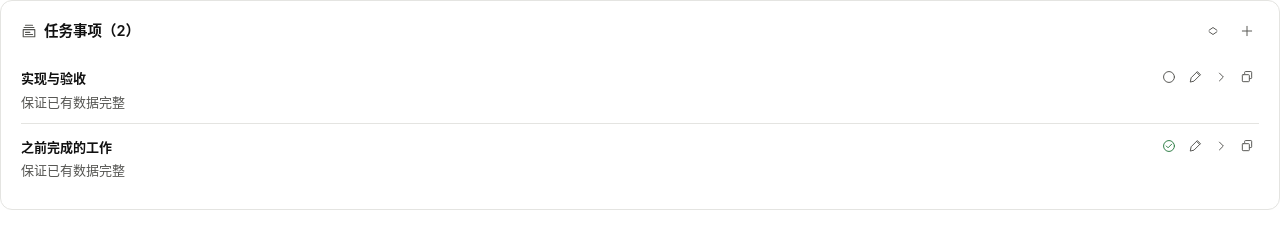
Test: shows all items, sorts completed work last, and exposes completion through the icon toggle
This screenshot has width=1280, height=227.
Click the button named "标记完成：实现与验收": (1169,77) [1157,65,1181,89]
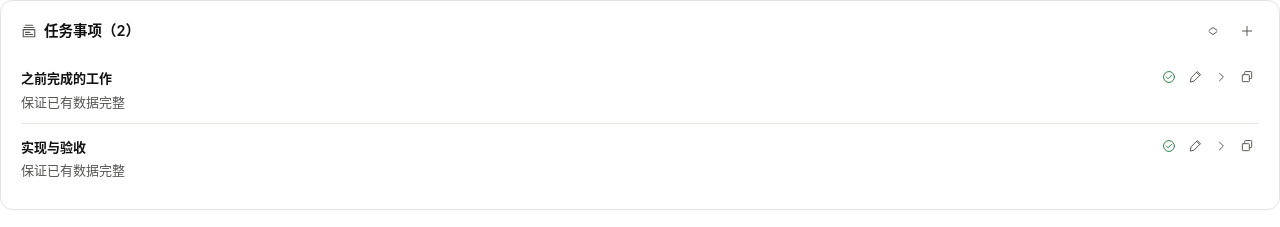
Click the button named "标记未完成：实现与验收": (1169,146) [1157,134,1181,158]
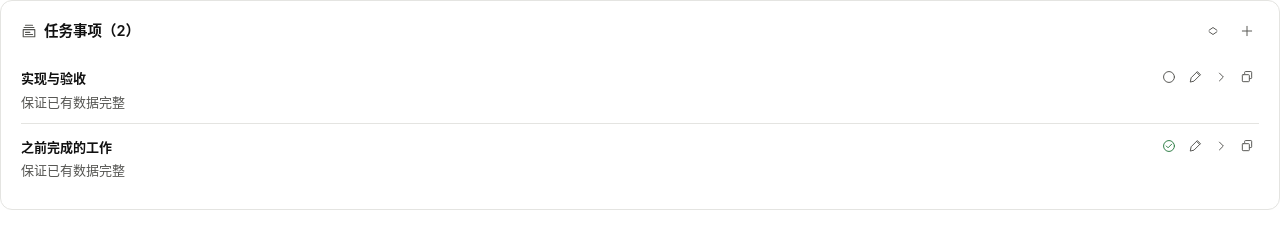
Expected: the button named "标记完成：实现与验收" is shown, [1157,65,1181,89]
